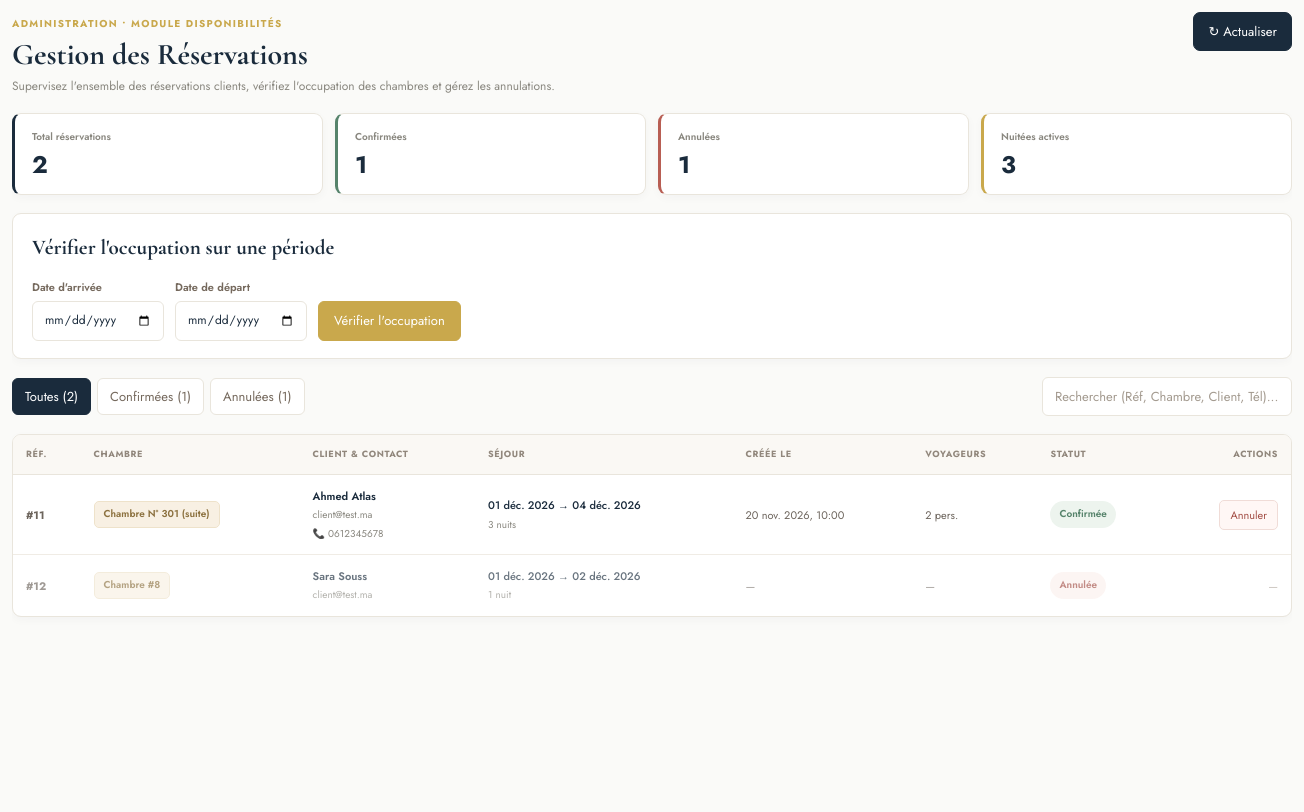
Test case: AdminDisponibilitesPage › recherche Ahmed
The image size is (1304, 812).
Expected: the text "#11" is shown, [13,475,81,555]
In the field with placeholder "Rechercher (Réf, Chambre, Client, Tél)...": (1167, 397) [1042,377,1292,416], type "Ahmed"
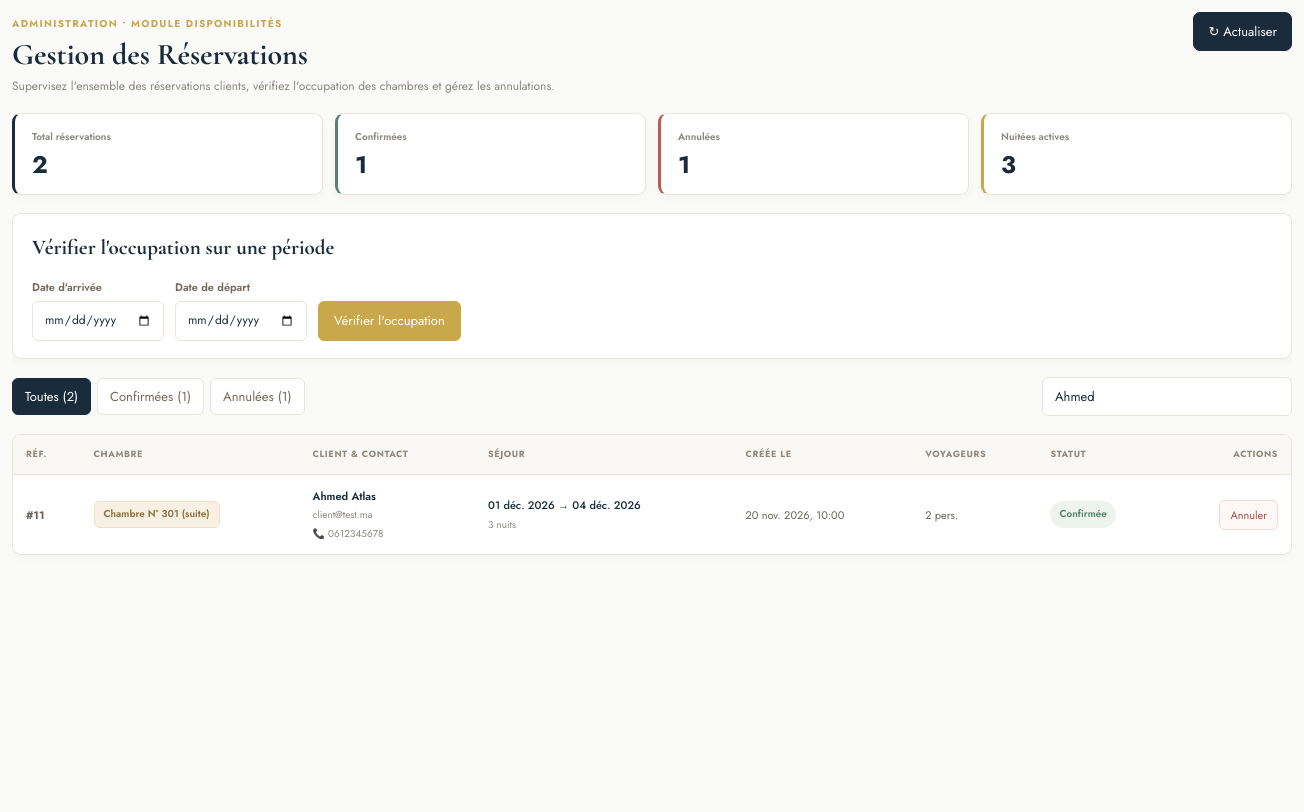
Expected: the text "#11" is shown, [13,475,81,554]
Expected: the text "#12" is gone
